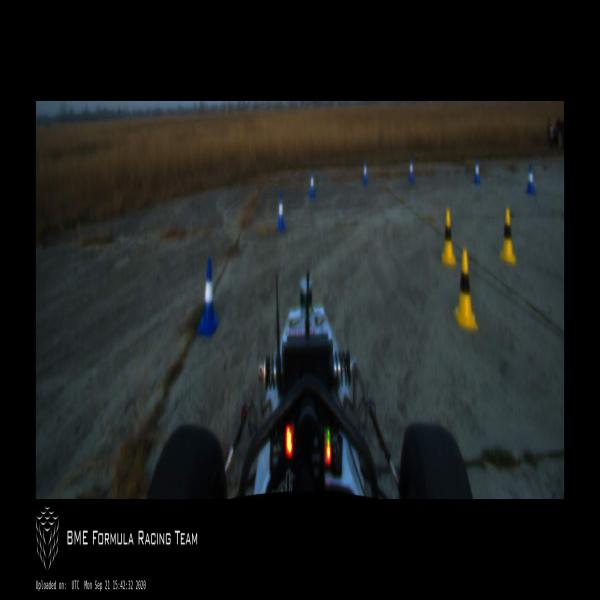blue_cone: (198, 265, 219, 338), (276, 196, 286, 237), (526, 163, 536, 193), (474, 156, 481, 184), (310, 170, 316, 199), (409, 157, 414, 183), (362, 162, 367, 186)
yellow_cone: (455, 250, 478, 330), (500, 210, 516, 263), (442, 209, 455, 264)
